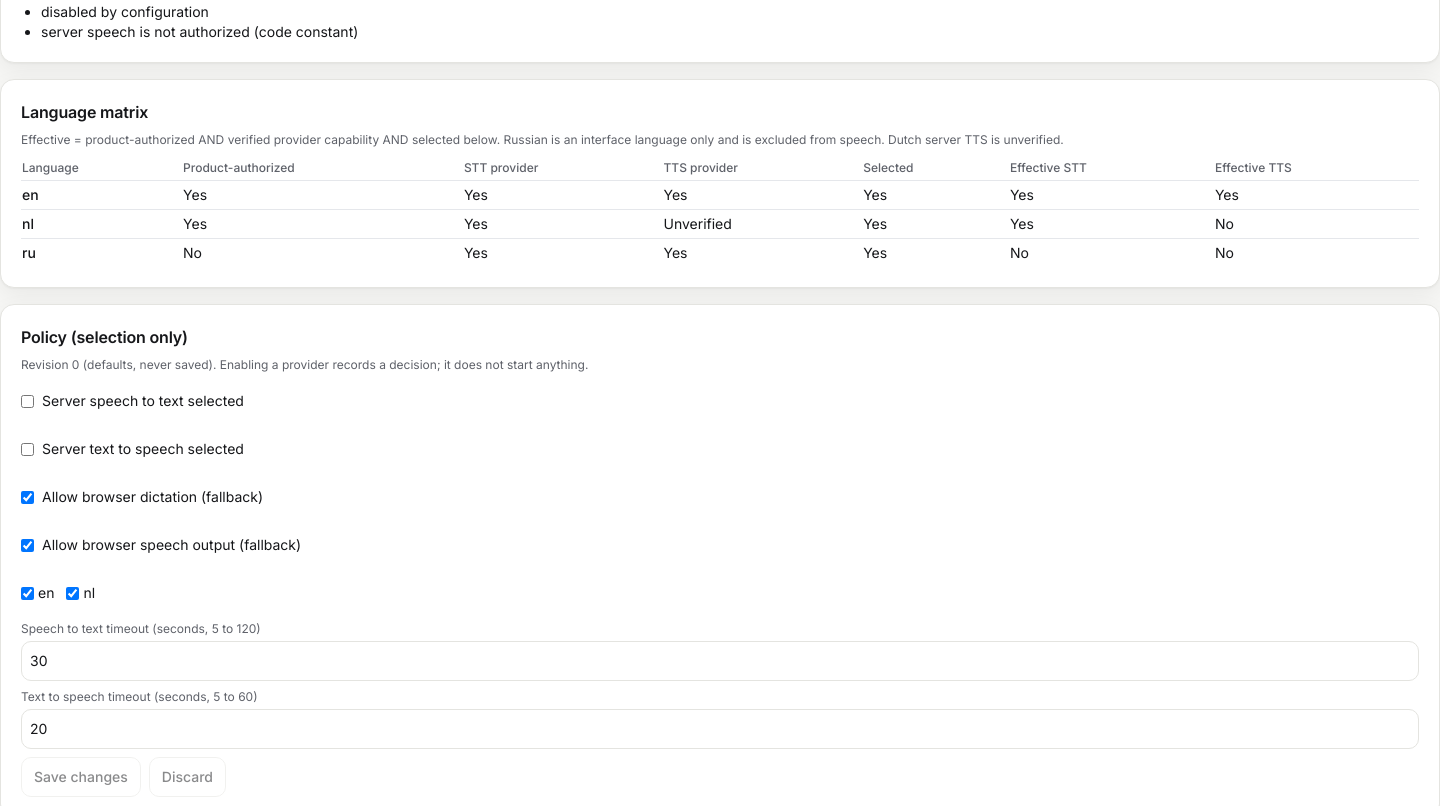
Admin speech page › shows a stale-revision refusal inside the dialog without losing the draft
(page scrolled)
Step 1. Click the checkbox labelled "Server speech to text selected" → (28, 401), box [21,394,34,408]
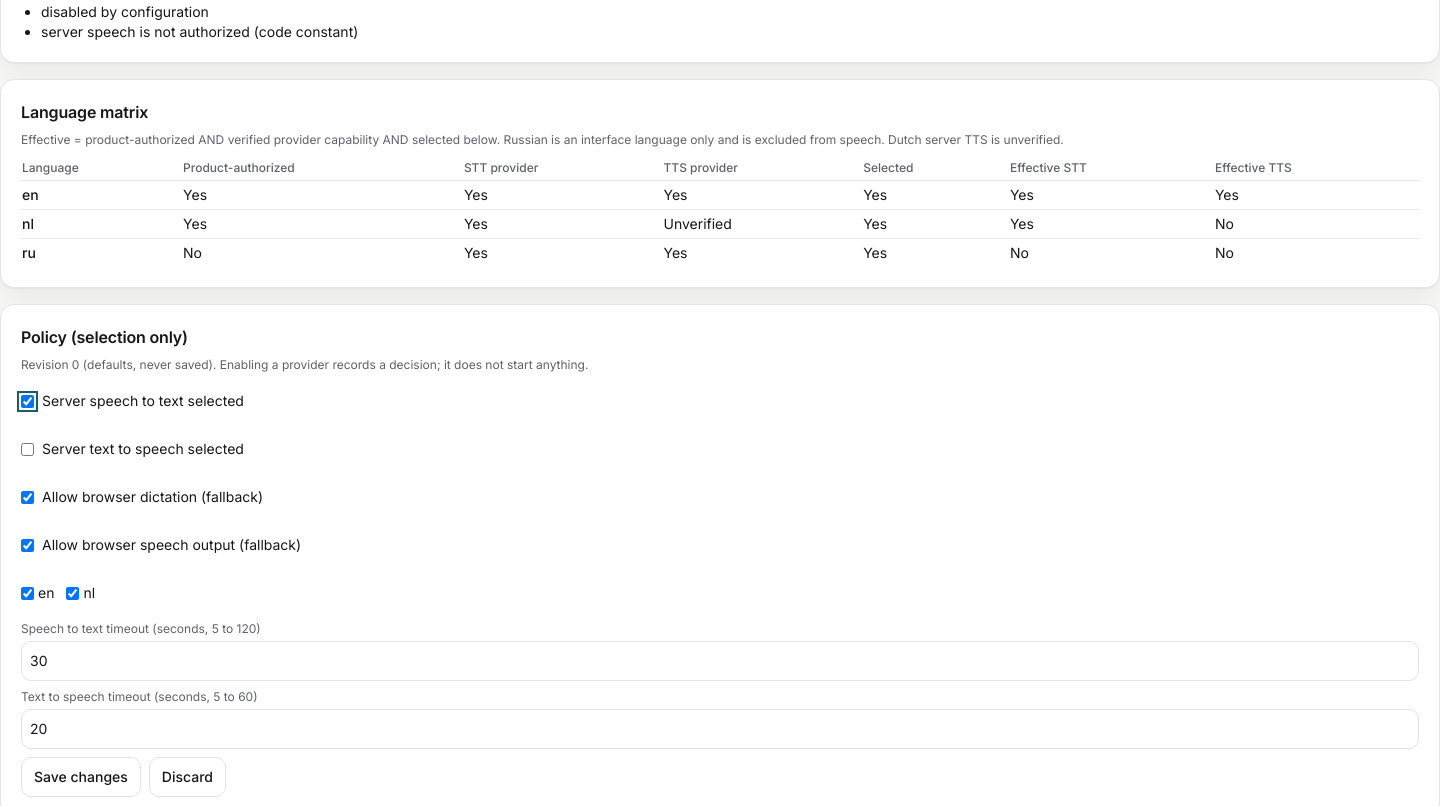
Step 2. Click the button "Save changes" → (81, 777), box [21,757,141,797]
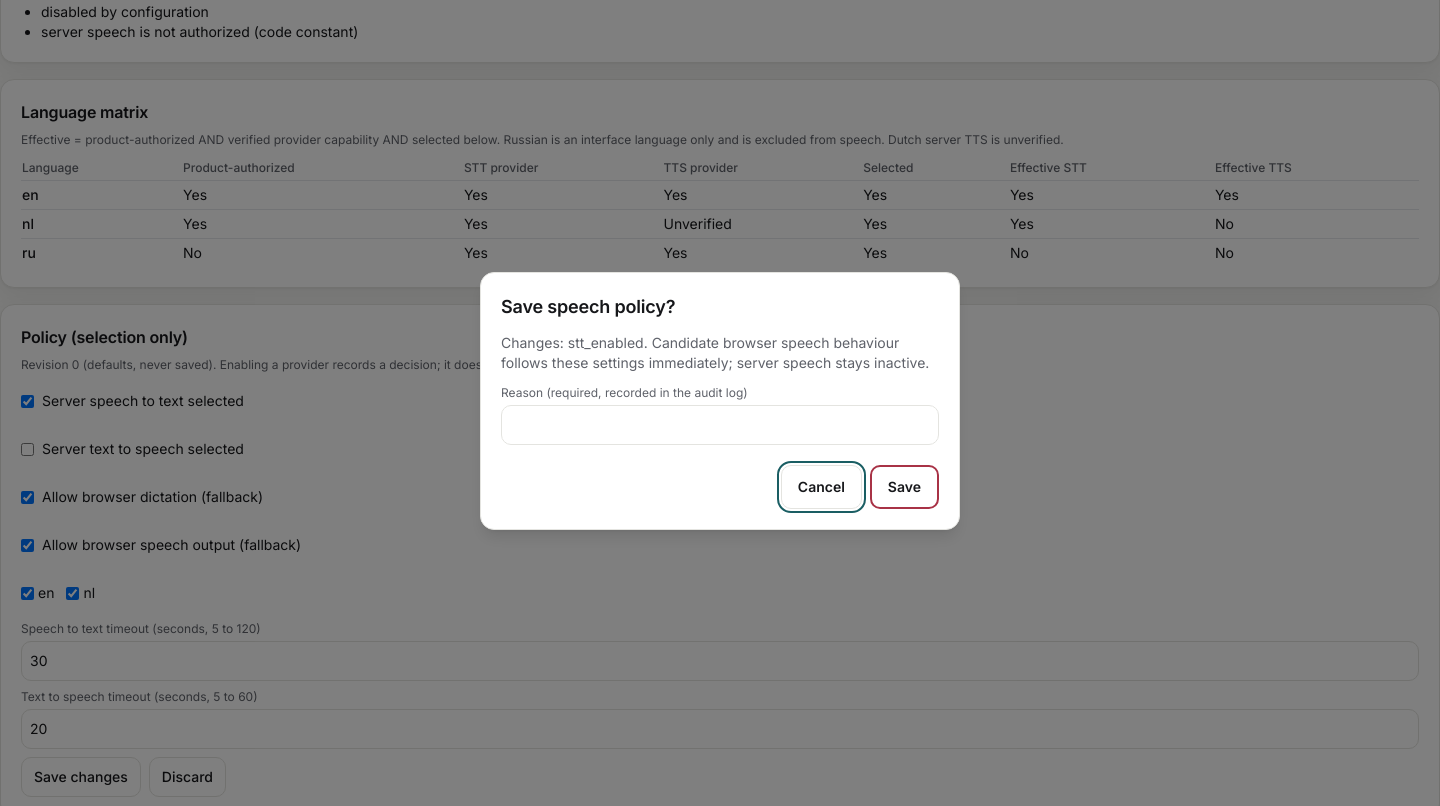
Step 3. Type "select for review" into the field labelled "Reason (required, recorded in the audit log)" → (720, 425), box [501,405,939,445]
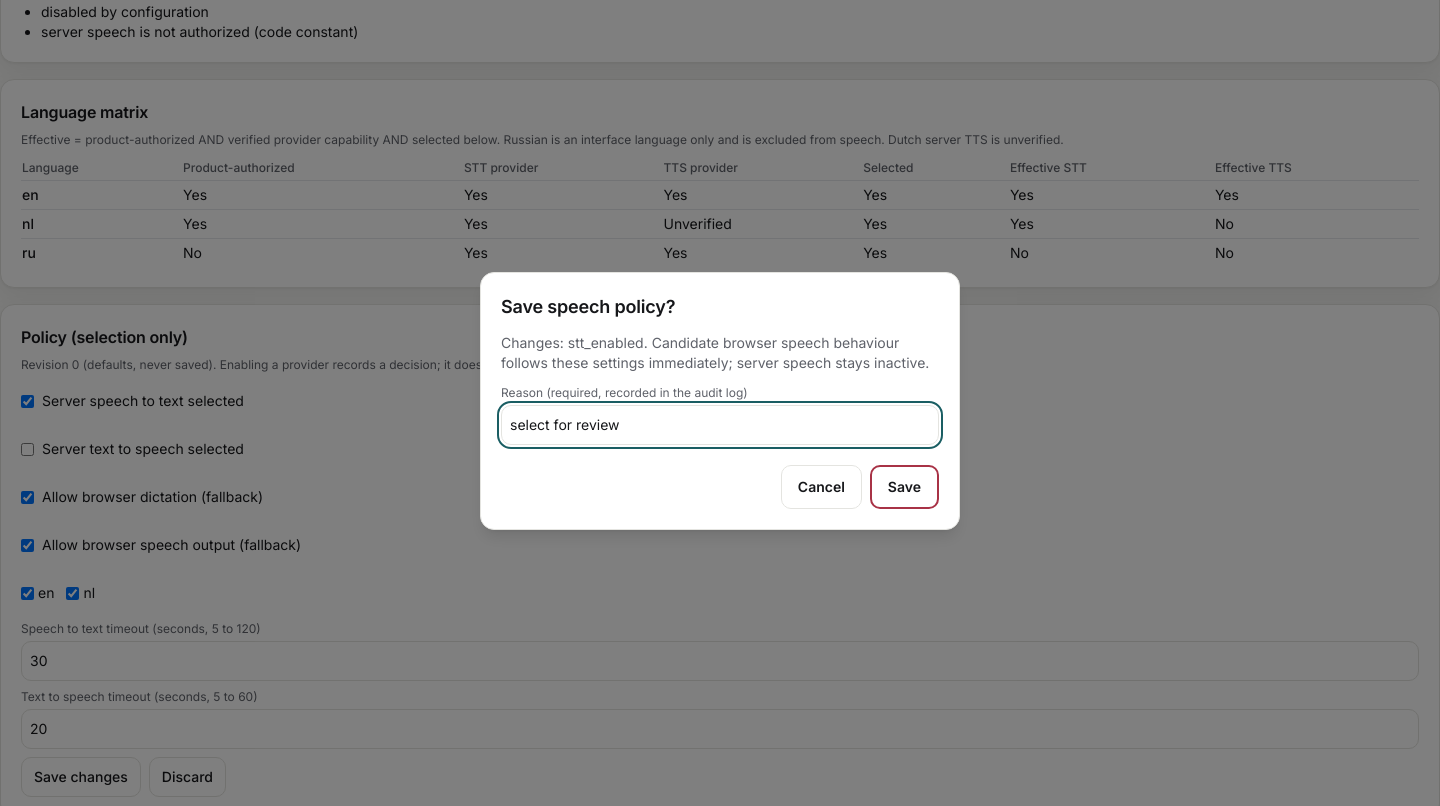
Step 4. Click the button "Save" → (904, 487), box [870,465,939,509]
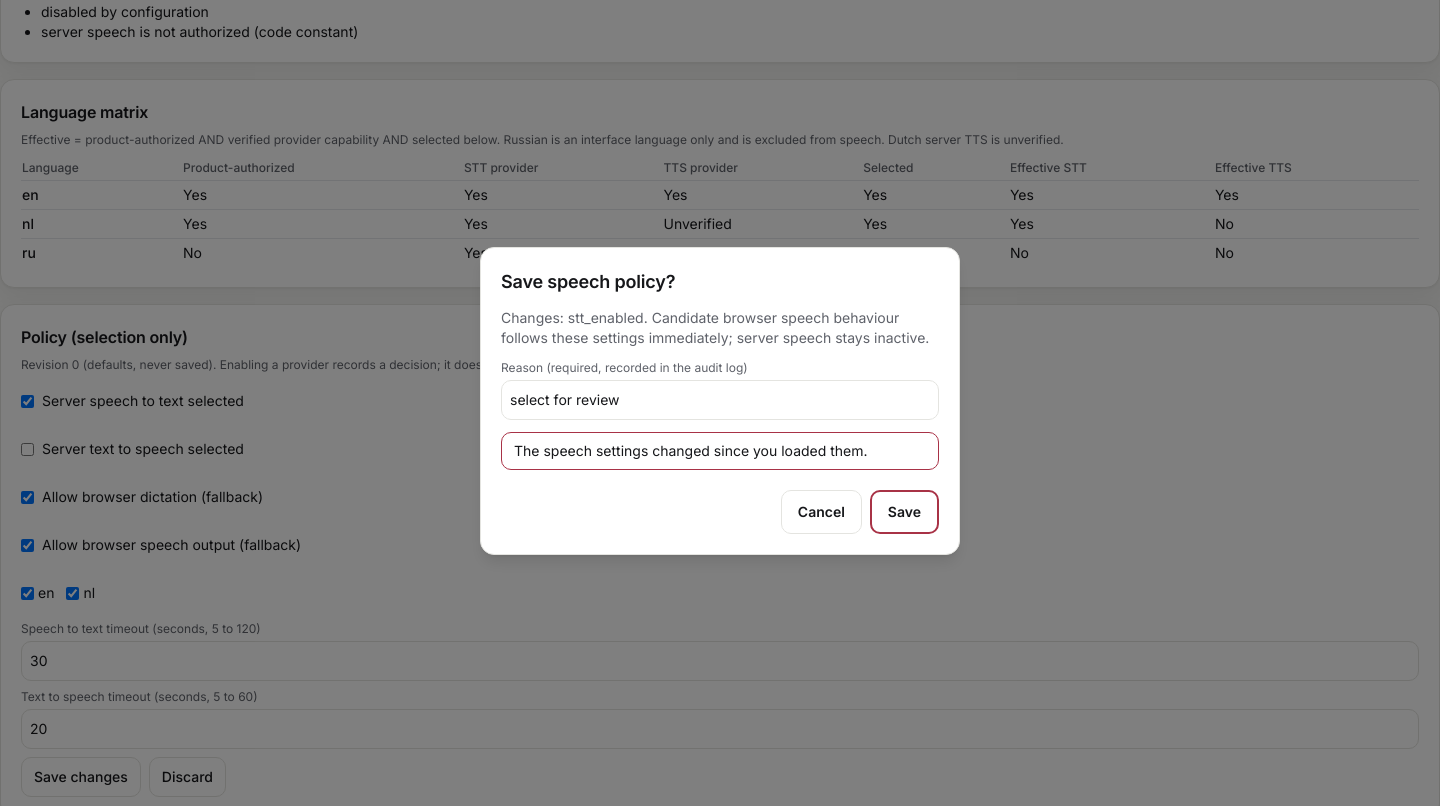
Expected: the text "The speech settings changed since you loaded them." is shown, [501,432,939,470]
